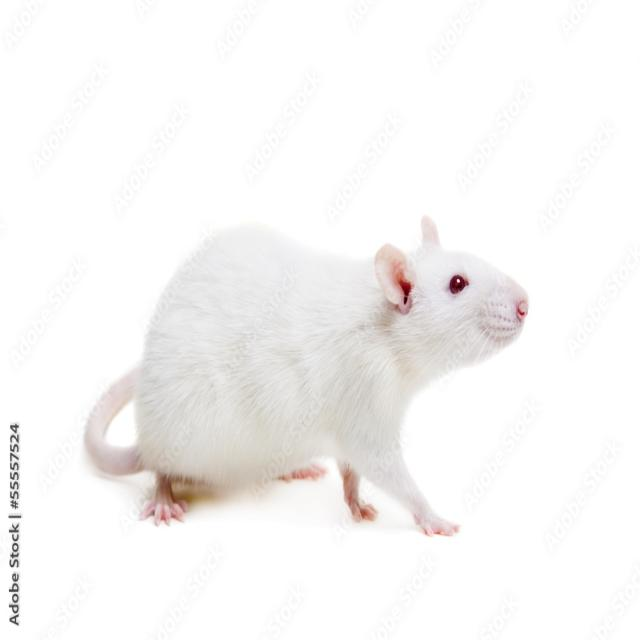rodent: (124, 206, 540, 506)
